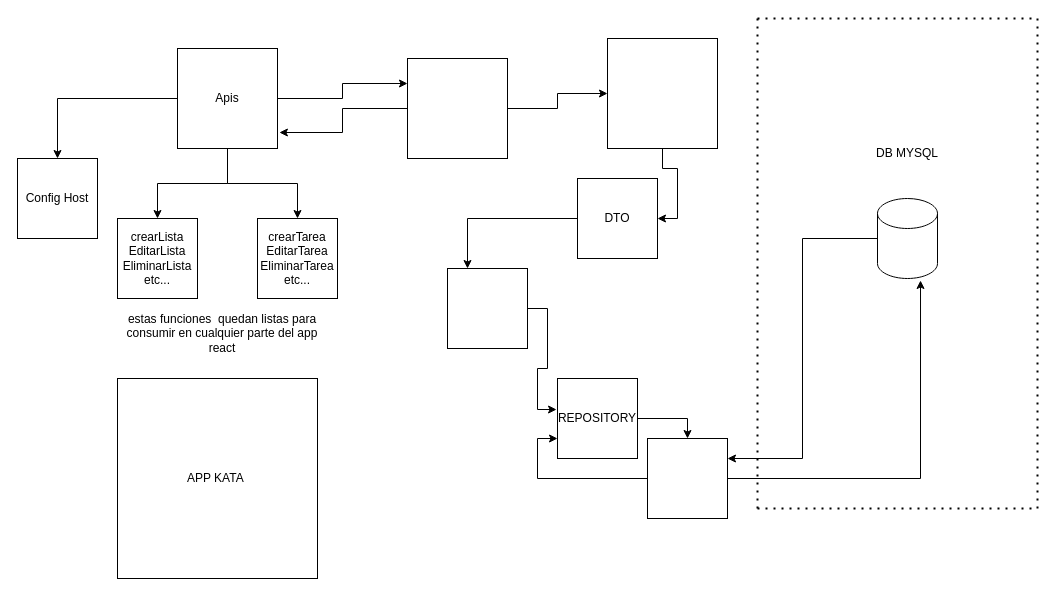
The diagram is 1057 pixels wide and 596 high, and some of its shapes have lost their labels. Here are the shapes that lost their labels. From the top down, the centre of each, then its label:
At [457,108]: "FRONT".
At [662,93]: "CONTROLLERS".
At [487,308]: "SERVICES".
At [687,478]: "ENTITY".
